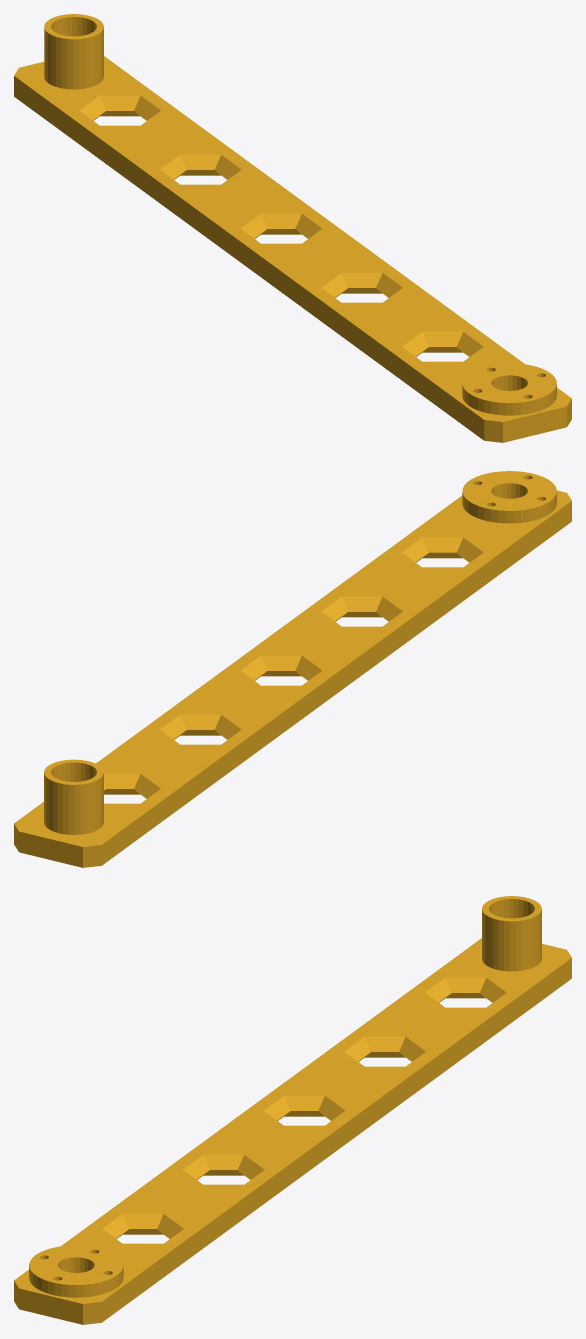
The model's file is end_effector.dae.
3 renders of one model, top to bottom at view 1: azimuth 30°, elevation 25°; view 2: azimuth 150°, elevation 25°; view 3: azimuth 330°, elevation 25°, orthographic.
Parts seen in each view (by area): view 1: node; view 2: node; view 3: node.
Part boxes in pixels (<box>): node: <box>14,14,571,442</box>; node: <box>14,471,571,867</box>; node: <box>14,896,571,1324</box>.
Size of the model in its own units: 22 by 17 by 210.
